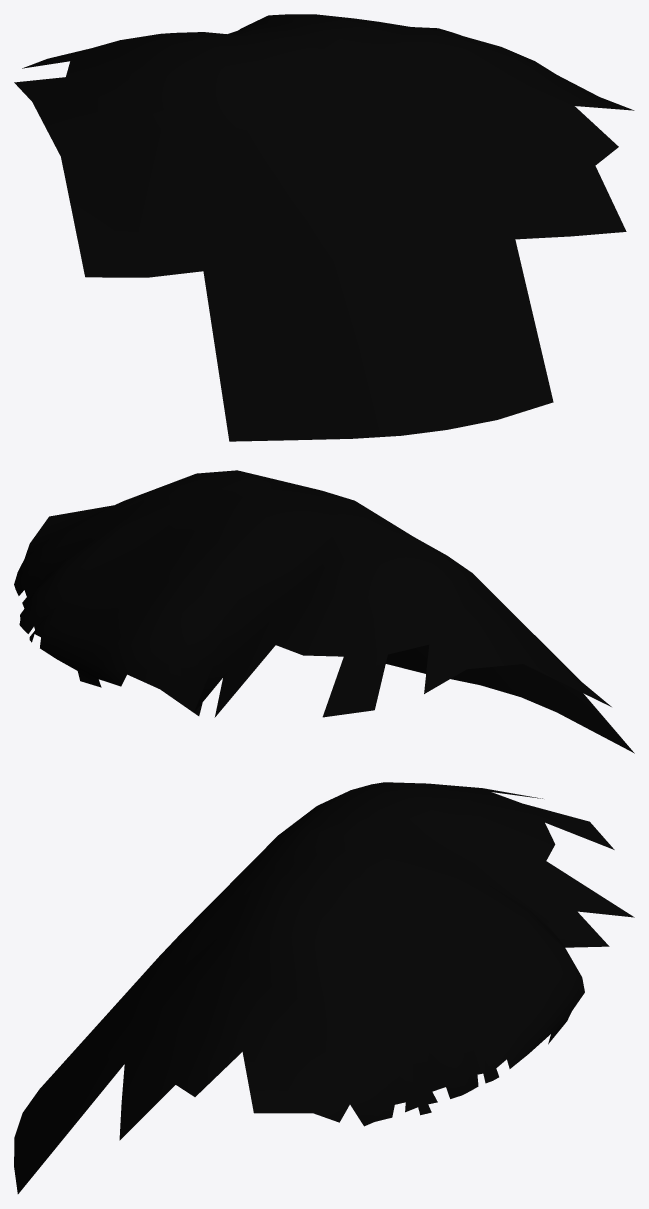
The model's file is HTOWN01_TREESHADOWS05.fbx.
3 views of the same model, one above another, from view 1: azimuth 30°, elevation 25°; view 2: azimuth 150°, elevation 25°; view 3: azimuth 270°, elevation 25° (orthographic). The views are drawn at different scales.
Visible parts, largest first — view 1: HTOWN01_TREESHADOWS05; view 2: HTOWN01_TREESHADOWS05; view 3: HTOWN01_TREESHADOWS05.
Boxes of the visible parts, <box> form: HTOWN01_TREESHADOWS05: <box>14,14,634,441</box>; HTOWN01_TREESHADOWS05: <box>14,470,634,753</box>; HTOWN01_TREESHADOWS05: <box>14,782,634,1193</box>.
Bounding box in the file's own units: 197327 × 98773 × 179358.
1 material, 1 textured.
